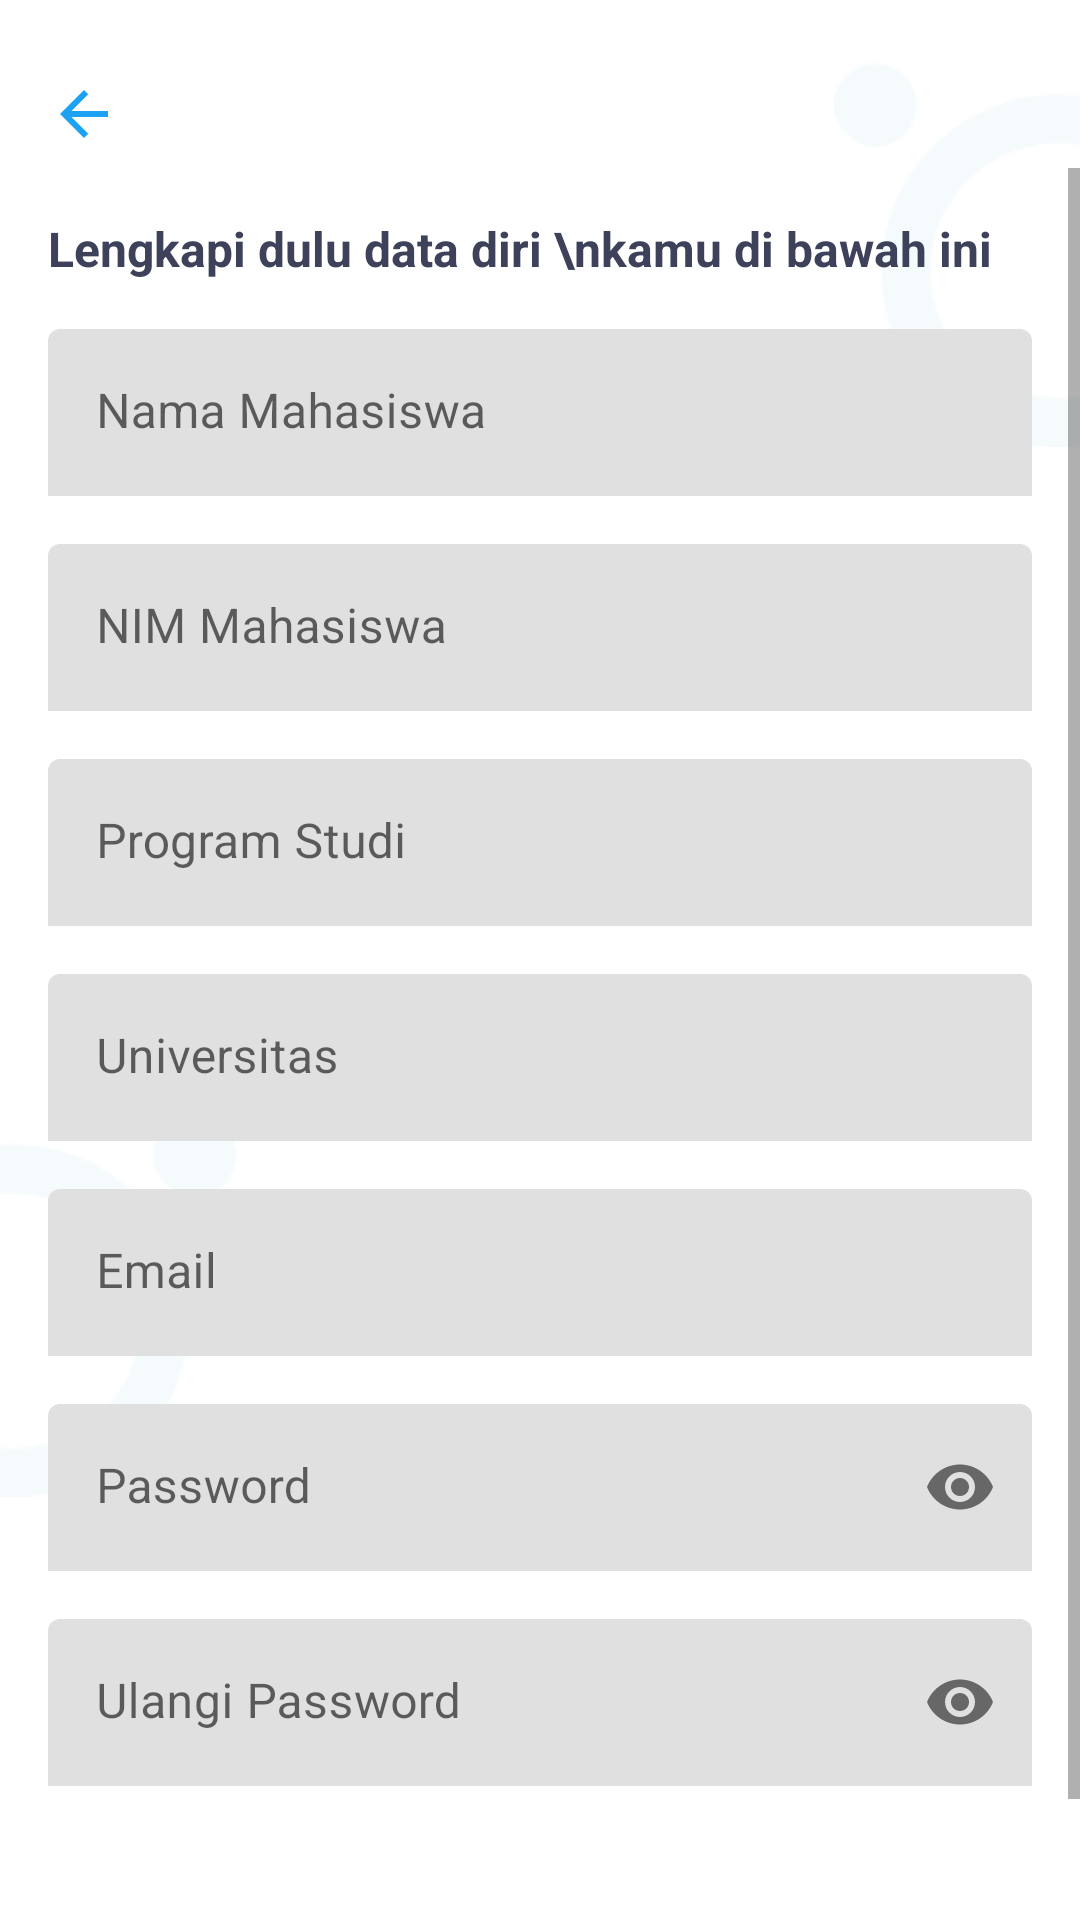

Where icons sit on this 1080*1920 app screen, as (x1, y1, x2, y2):
back: (60, 90, 108, 138)
